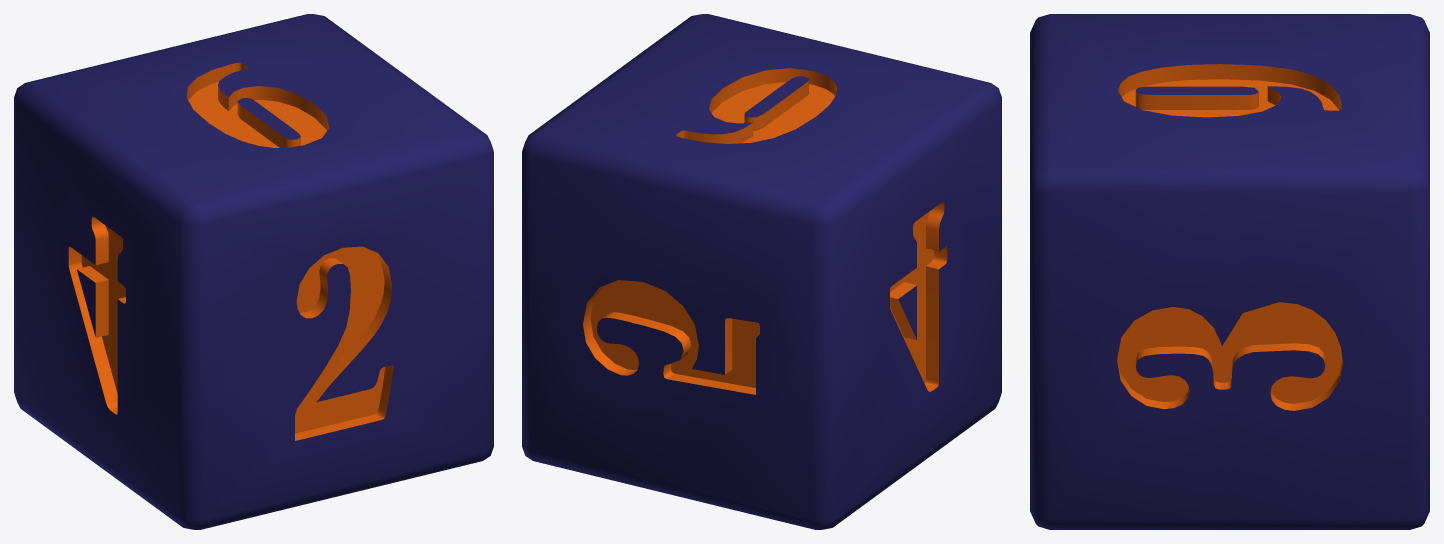
The model's file is dice6a.glb.
3 views of the same model, side by side, from view 1: azimuth 30°, elevation 25°; view 2: azimuth 150°, elevation 25°; view 3: azimuth 270°, elevation 25° (orthographic). The views are drawn at different scales.
Visible parts, largest first — view 1: A, B; view 2: A, B; view 3: A, B.
Part boxes in pixels (x1=…): A: x1=14, y1=14, x2=493, y2=529; B: x1=68, y1=62, x2=393, y2=440; A: x1=522, y1=14, x2=1001, y2=529; B: x1=583, y1=68, x2=947, y2=394; A: x1=1030, y1=14, x2=1429, y2=529; B: x1=1117, y1=64, x2=1342, y2=410.
Bounding box in the file's own units: 6 × 6 × 6.
